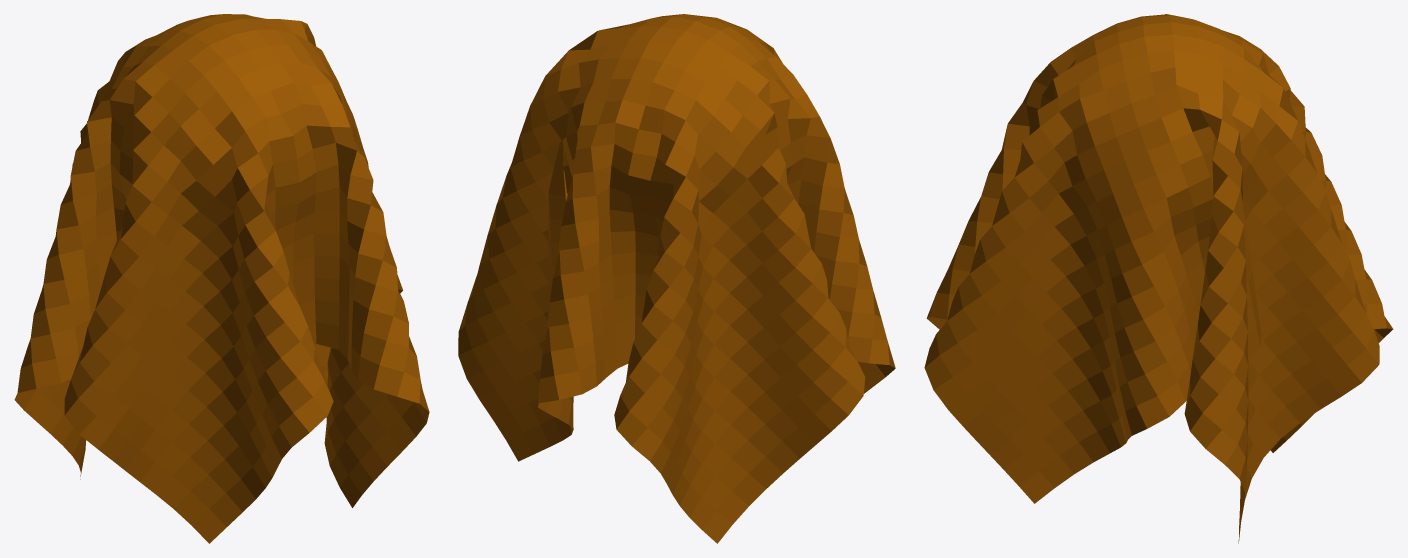
Rendered from cloth.fbx.
The picture shows the model from 3 angles, left to right: view 1: azimuth 30°, elevation 25°; view 2: azimuth 150°, elevation 25°; view 3: azimuth 270°, elevation 25°; orthographic projection. The views are drawn at different scales.
Visible parts, largest first — view 1: cloth; view 2: cloth; view 3: cloth.
Part boxes in pixels (box(x1,y1,x2,y2)): cloth: box(14, 14, 429, 543); cloth: box(458, 14, 895, 543); cloth: box(924, 14, 1393, 543).
Bounding box in the file's own units: 438 × 497 × 447.
